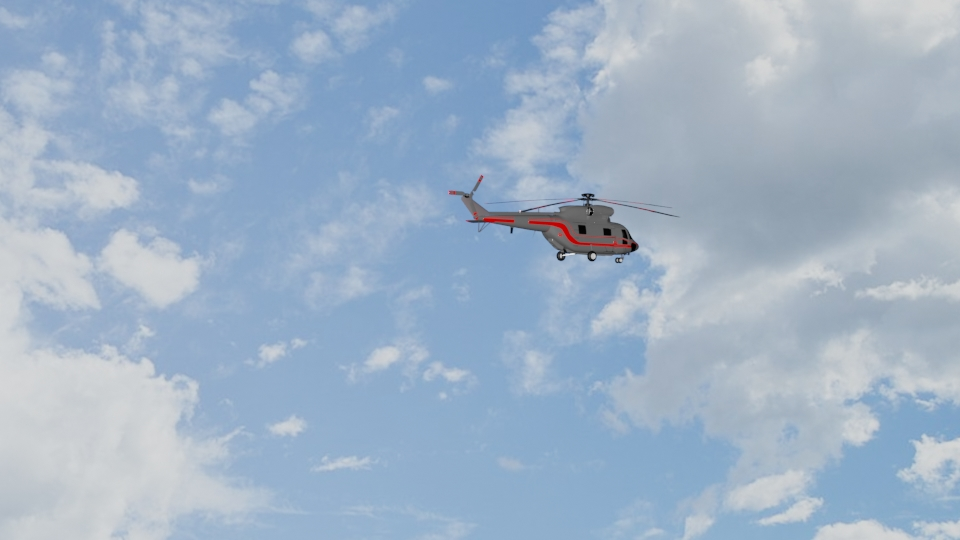heli: (445, 171, 679, 263)
